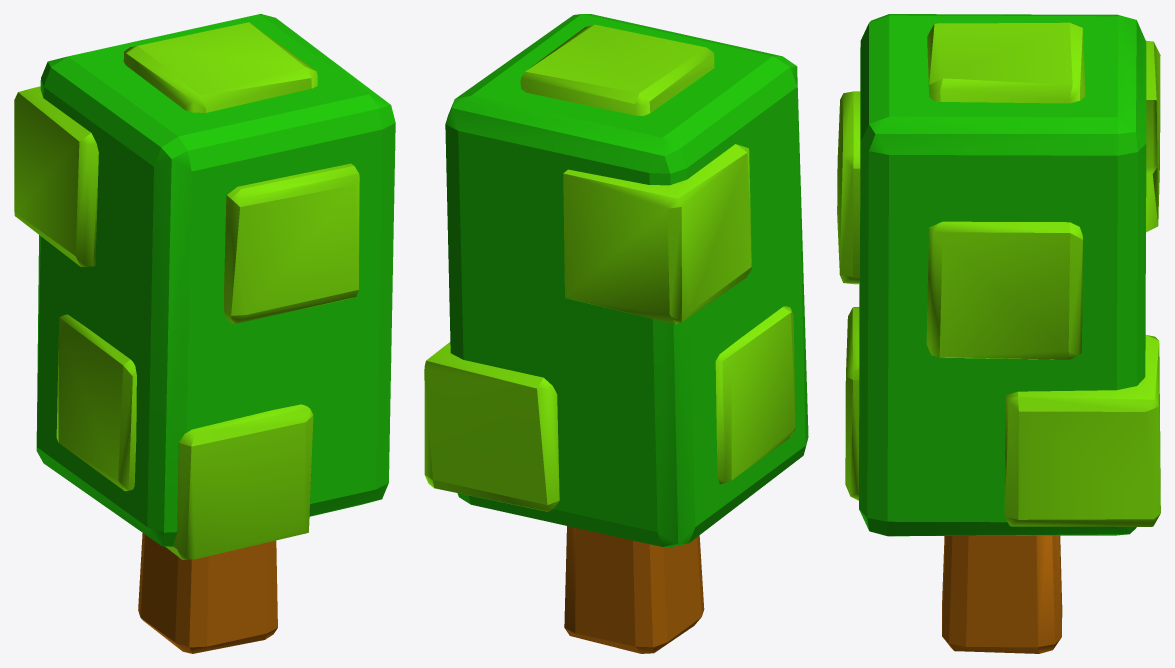
File: QuadTree.fbx
3 views of the same model, side by side, from view 1: azimuth 30°, elevation 25°; view 2: azimuth 150°, elevation 25°; view 3: azimuth 270°, elevation 25° (orthographic). The views are drawn at different scales.
Visible parts, largest first — view 1: QuadTree_LOD0; view 2: QuadTree_LOD0; view 3: QuadTree_LOD0.
Boxes of the visible parts, left/top/right/bottom form: QuadTree_LOD0: left=14, top=14, right=395, bottom=653; QuadTree_LOD0: left=424, top=14, right=808, bottom=653; QuadTree_LOD0: left=837, top=14, right=1160, bottom=653.
Size of what is drawn, in the model's own units: 499 by 1020 by 506.
